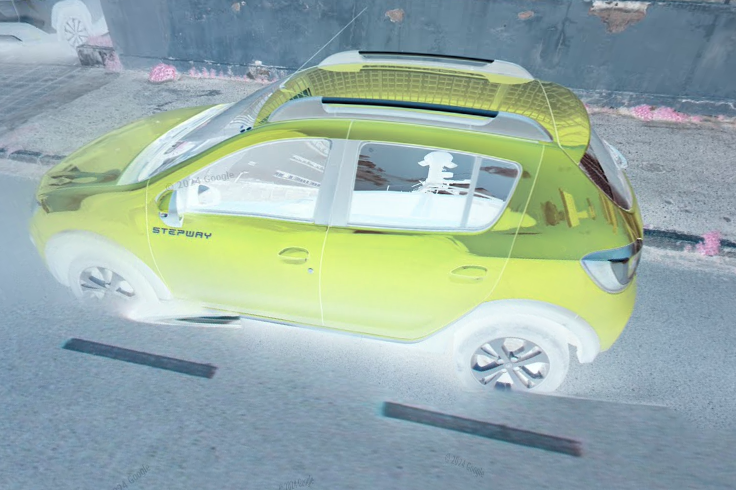car: (26, 5, 646, 405)
